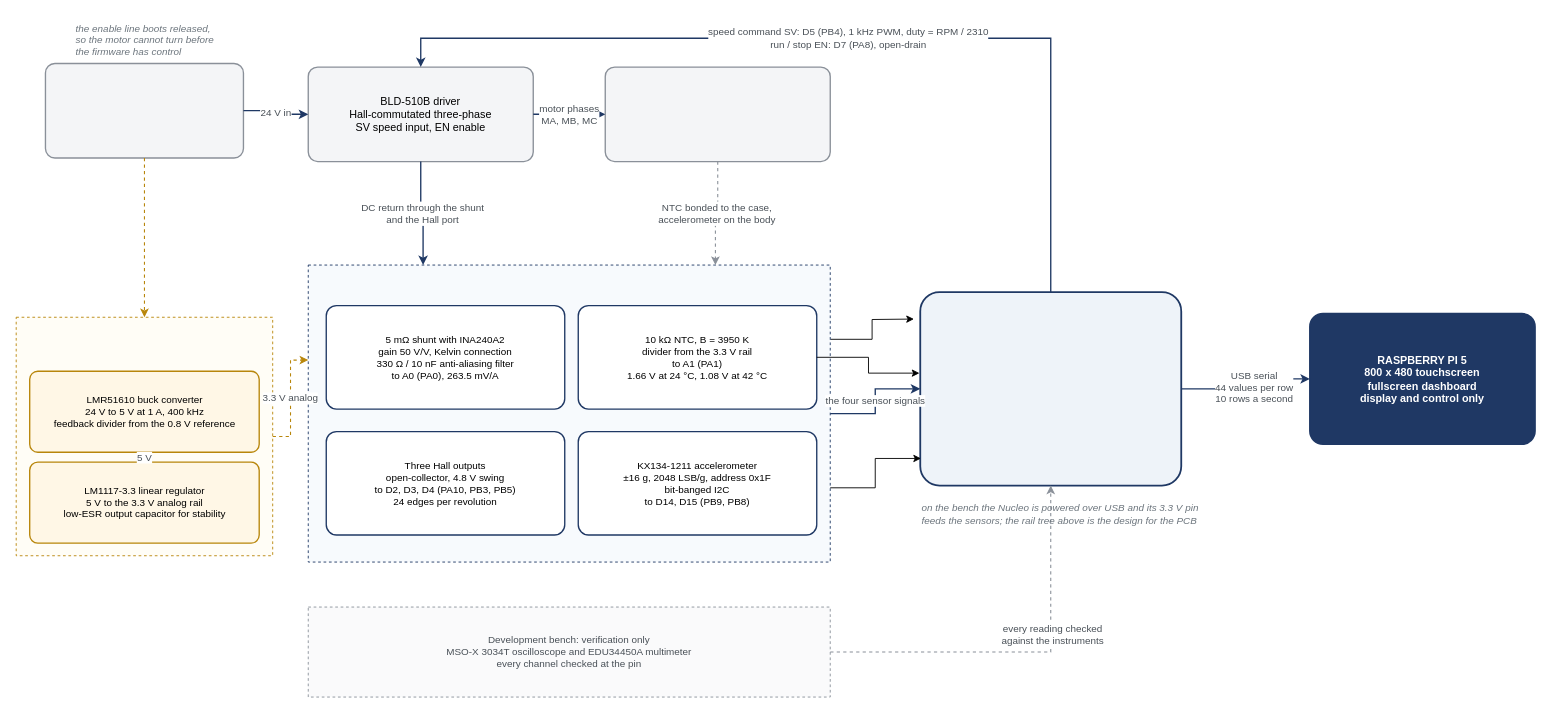
Some shapes in this 1551 by 713 pixel diagram are drawn without their labels. Each missing label, with the box of its shape:
24 V bench supply 5 A fuse series ammeter inserted during current calibration: (44, 62, 244, 158)
42BL41.010 motor 24 V, 8-pole (four pole-pairs): (604, 66, 831, 162)
Buck Converters + LDO: (15, 316, 273, 556)
NUCLEO-F401RE STM32F401RE, bare-metal C, 16 MHz HSI: (919, 291, 1182, 486)
Sensing on the motor and its power path: (307, 264, 830, 562)
